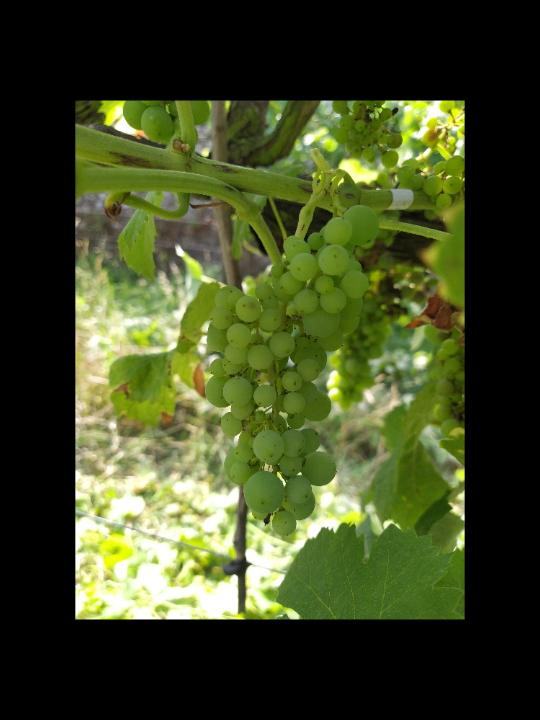grape: (204, 204, 380, 537)
